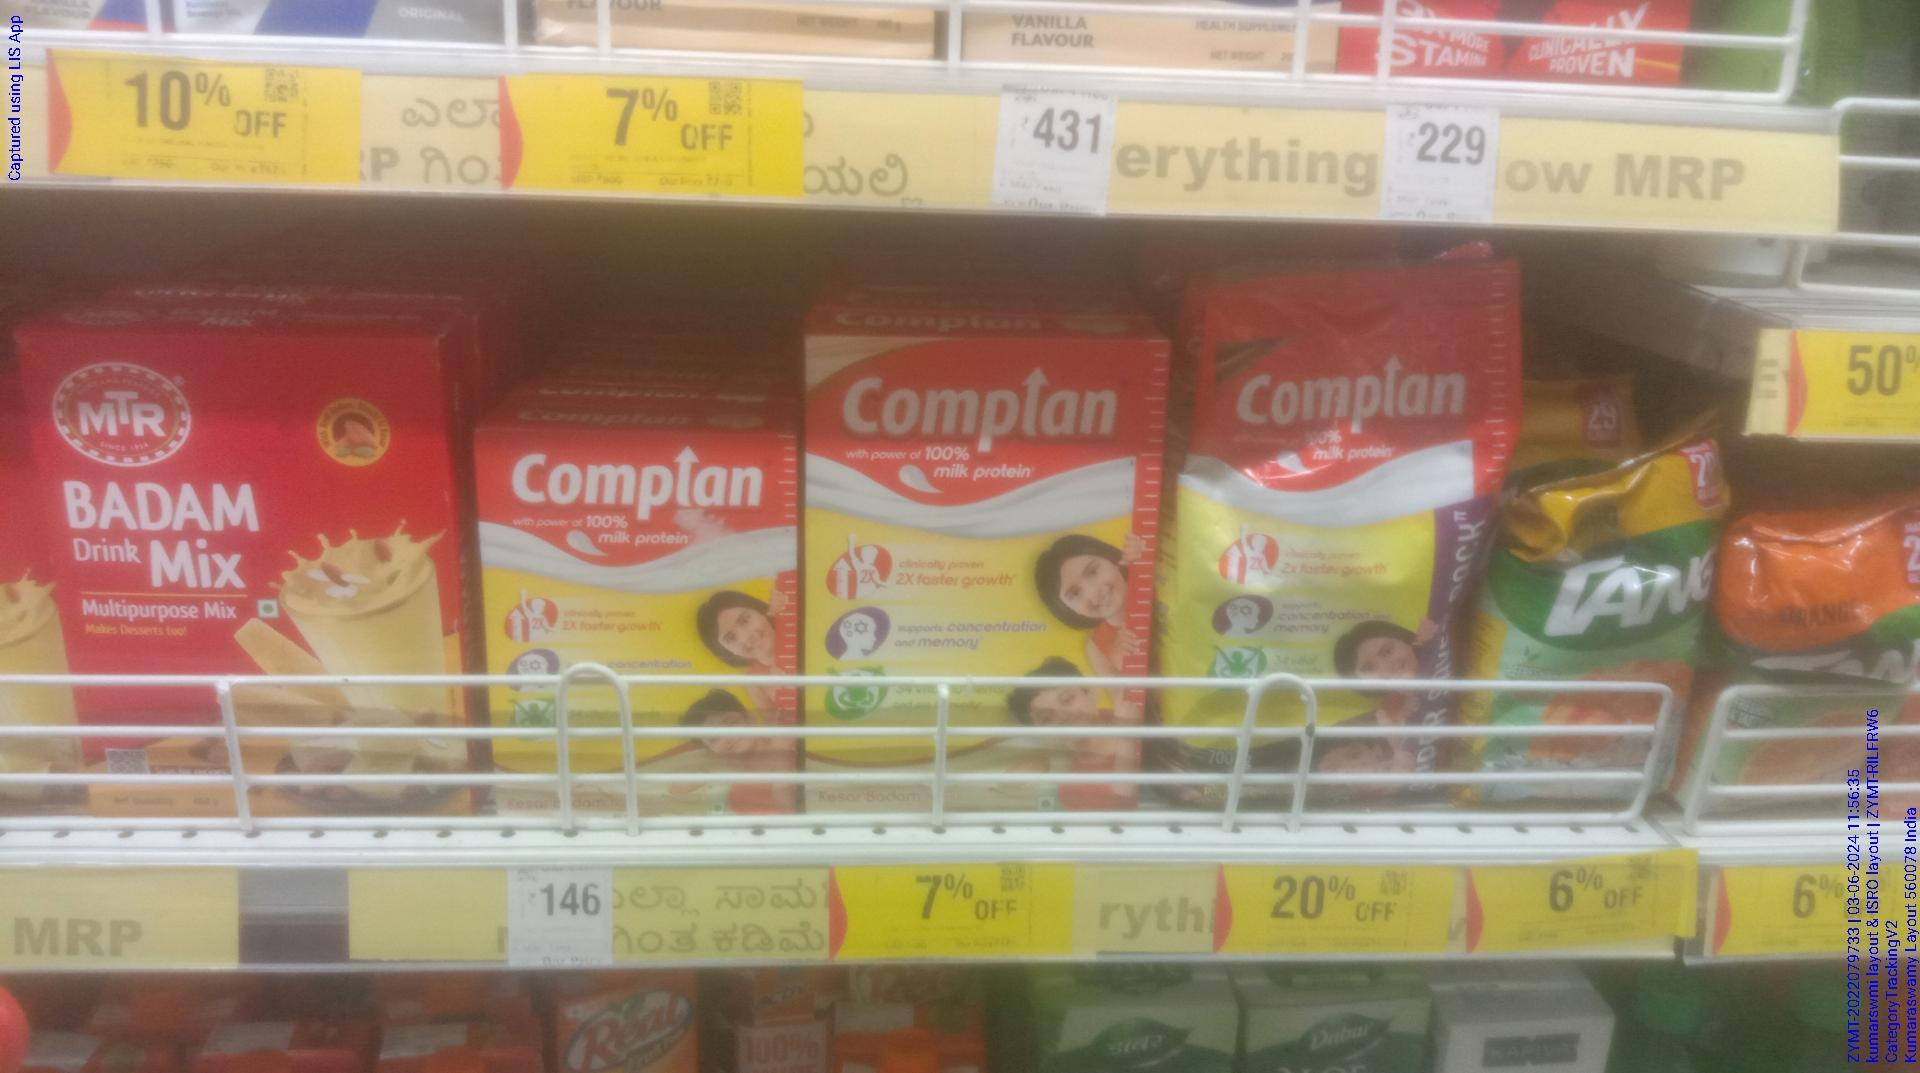COMPLAN_RC_POUCH_700_GMS_12: (1176, 274, 1491, 819)
